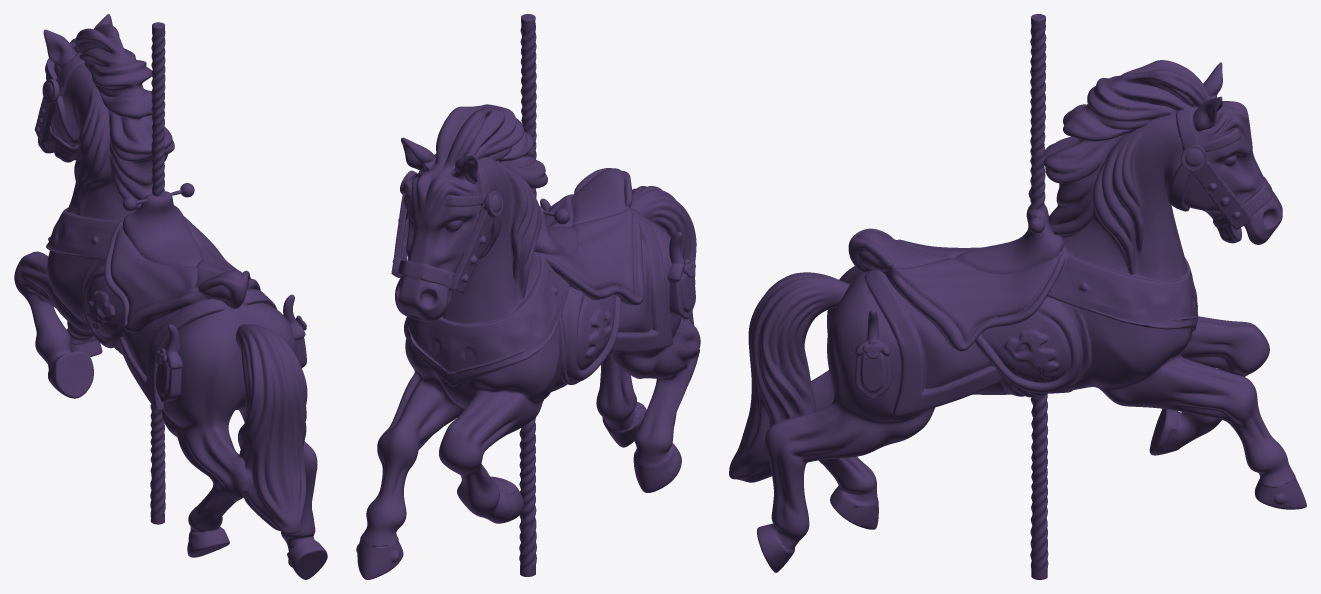
Rendered from horse_P.glb.
The picture shows the model from 3 angles, left to right: view 1: azimuth 30°, elevation 25°; view 2: azimuth 150°, elevation 25°; view 3: azimuth 270°, elevation 25°; orthographic projection. The views are drawn at different scales.
Visible parts, largest first — view 1: tripo_node_ee63cbfc-d7be-431d-95cd-ca973c026d08; view 2: tripo_node_ee63cbfc-d7be-431d-95cd-ca973c026d08; view 3: tripo_node_ee63cbfc-d7be-431d-95cd-ca973c026d08.
Part boxes in pixels (x1=…): tripo_node_ee63cbfc-d7be-431d-95cd-ca973c026d08: x1=14, y1=14, x2=327, y2=579; tripo_node_ee63cbfc-d7be-431d-95cd-ca973c026d08: x1=356, y1=14, x2=700, y2=579; tripo_node_ee63cbfc-d7be-431d-95cd-ca973c026d08: x1=729, y1=14, x2=1306, y2=579.
Bounding box in the file's own units: 0.3104 × 1 × 0.9359.
Materials: 1 (1 with a texture image).
